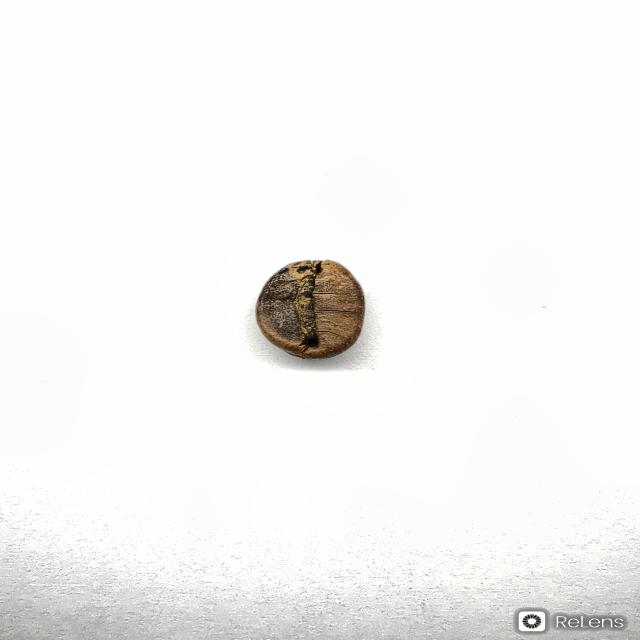Insect damage: (254, 258, 366, 360)
